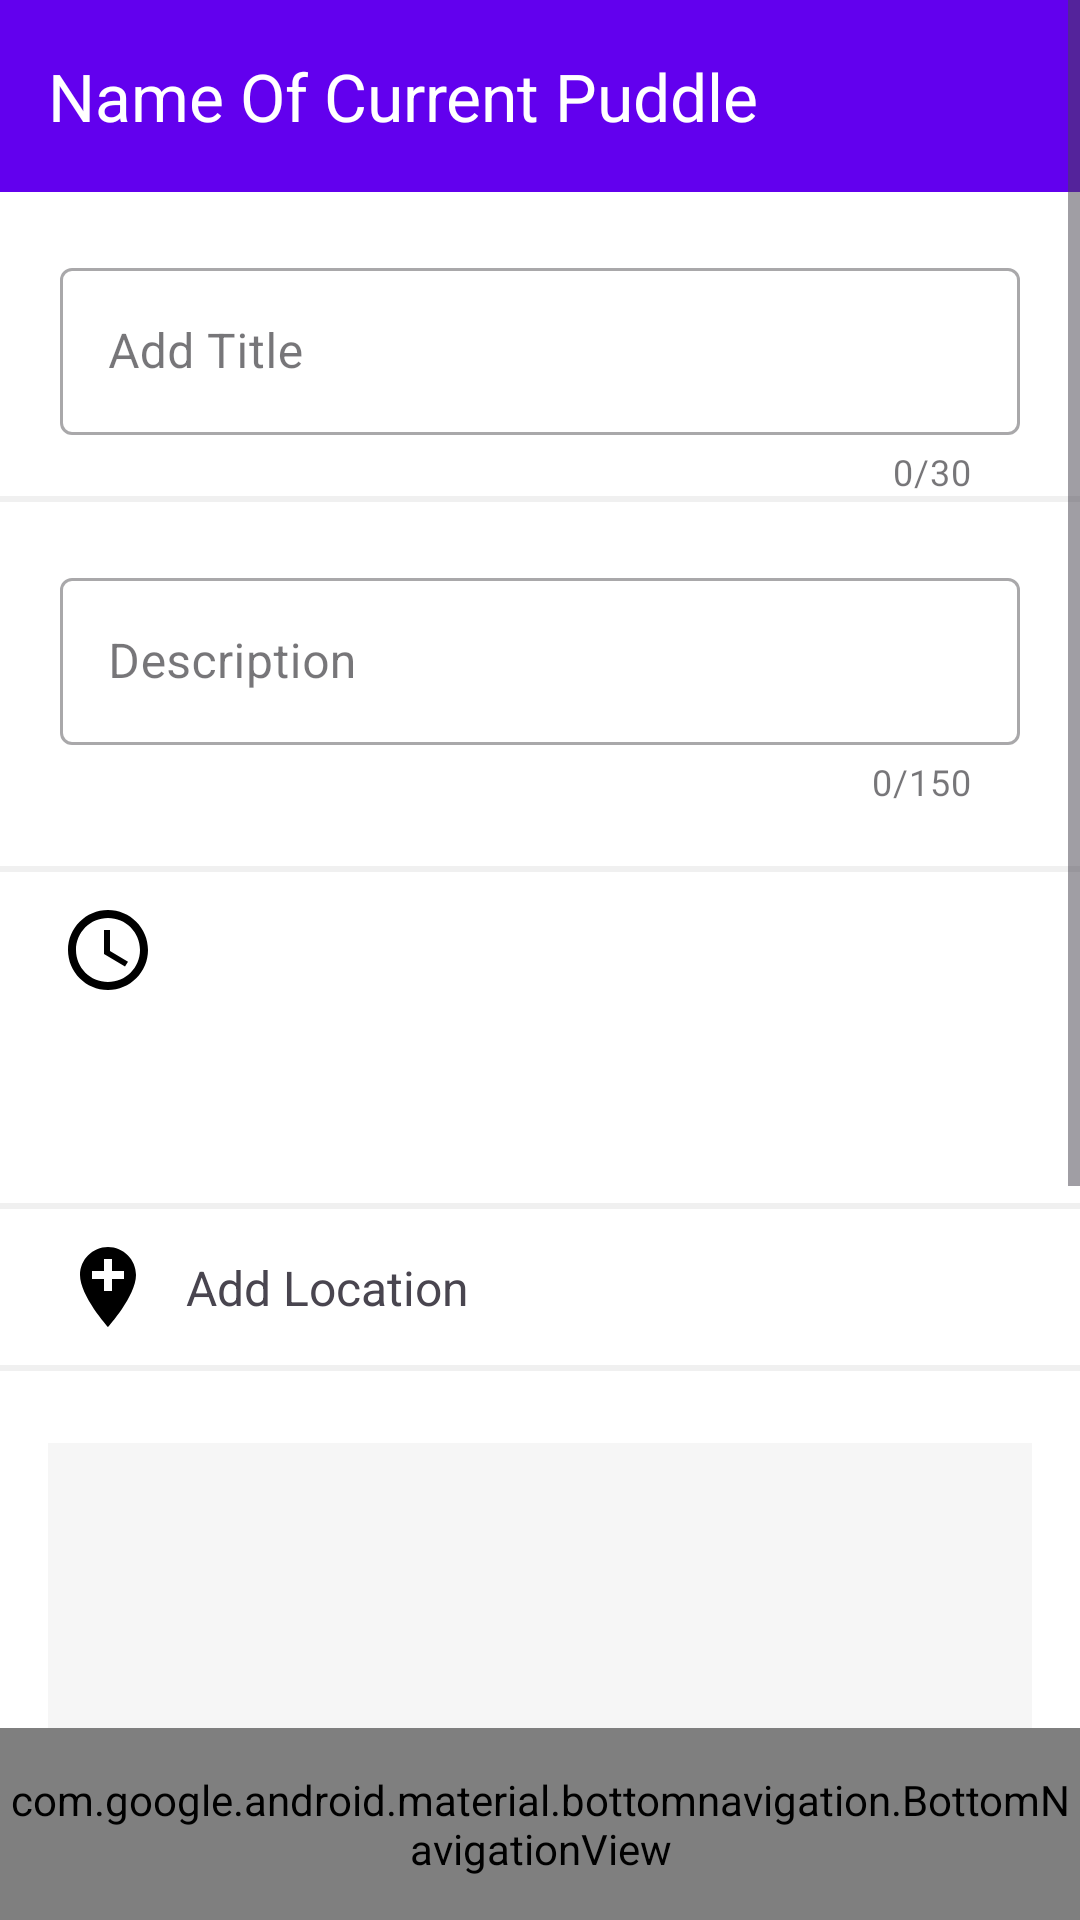

Icons on this 1080x1920 Android screen, each with the point to tap as point (x, y):
time: point (108, 950)
